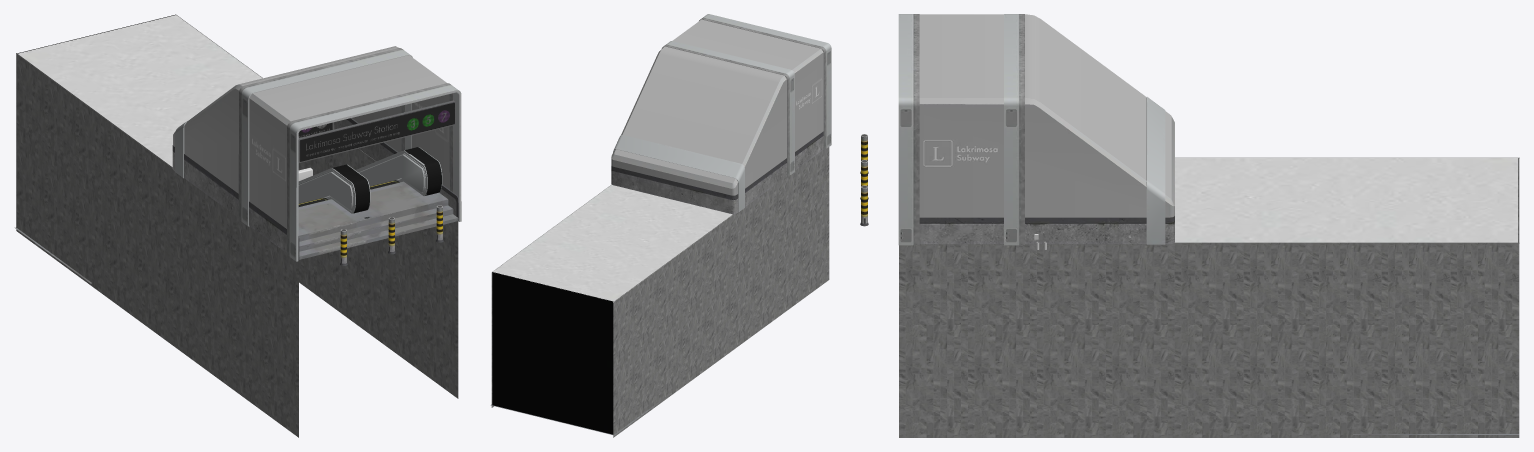
The picture shows the model from 3 angles, left to right: view 1: azimuth 30°, elevation 25°; view 2: azimuth 150°, elevation 25°; view 3: azimuth 270°, elevation 25°; orthographic projection. The views are drawn at different scales.
Visible parts, largest first — view 1: defaultMaterial.027; view 2: defaultMaterial.027, defaultMaterial.032; view 3: defaultMaterial.027.
Part boxes in pixels (x1,y1,x2,y2): defaultMaterial.027: [14, 15, 461, 437]; defaultMaterial.027: [490, 14, 831, 437]; defaultMaterial.032: [492, 272, 613, 434]; defaultMaterial.027: [860, 14, 1519, 437].
Size of the model in its own units: 5.6 by 8.51 by 14.7.
Materials: 4 (2 with a texture image).
